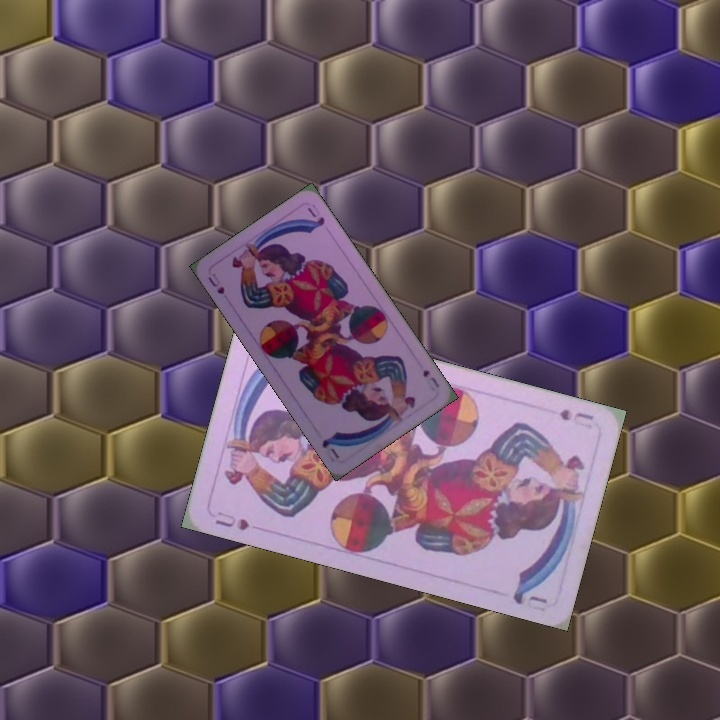SU: (555, 405, 597, 432), (211, 507, 252, 533), (204, 269, 227, 297), (418, 365, 442, 390)
